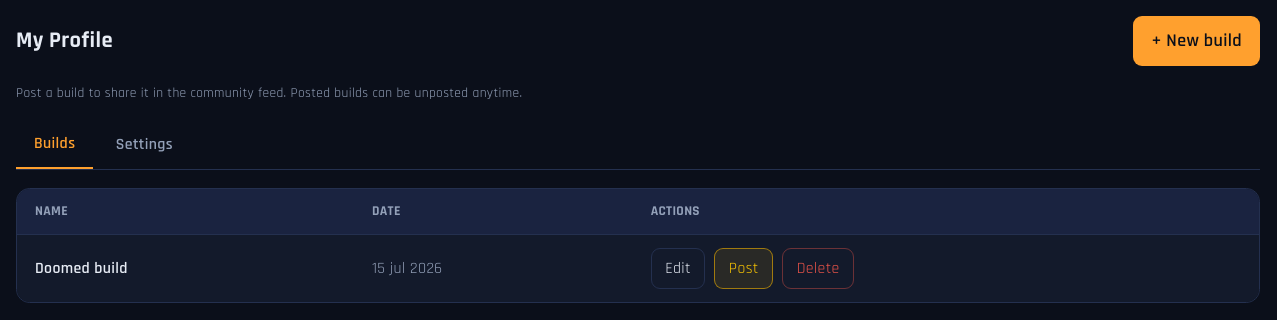
Scenario: ProfilePage › deletes a build after confirmation
This screenshot has width=1277, height=320.
Click the button "Delete": (818, 269) [782,248,854,289]
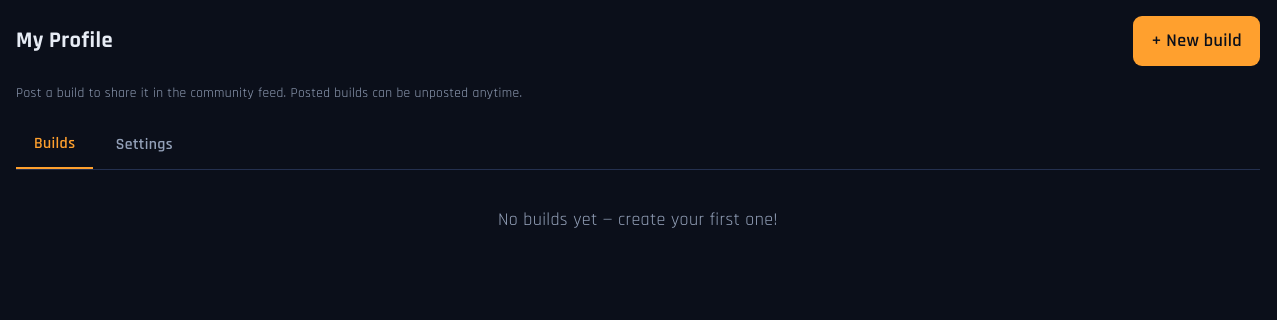
expect the link "Doomed build" is gone: met
expect the text "No builds yet — create your first one!" is shown: met, box [498,208,778,231]
